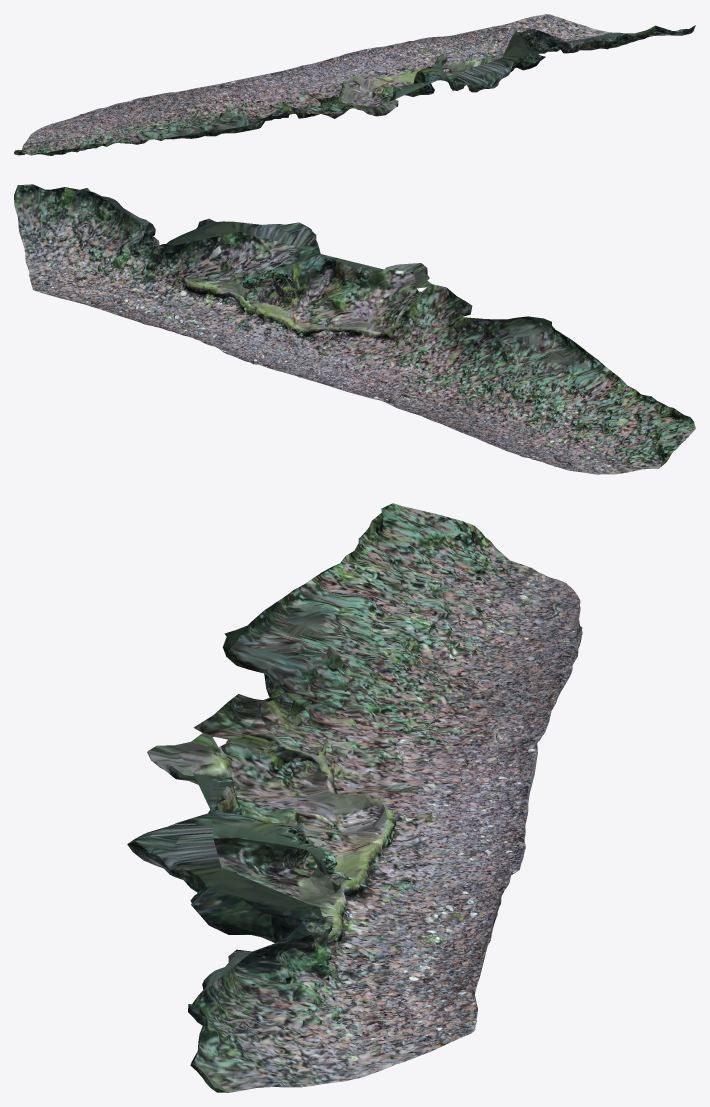
File: forest-floor-leaves-01.fbx
The picture shows the model from 3 angles, top to bottom: view 1: azimuth 30°, elevation 25°; view 2: azimuth 150°, elevation 25°; view 3: azimuth 270°, elevation 25°; orthographic projection. The views are drawn at different scales.
Parts seen in each view (by area): view 1: meshes[0]; view 2: meshes[0]; view 3: meshes[0].
Part boxes in pixels (<box>): meshes[0]: <box>14,14,695,155</box>; meshes[0]: <box>14,184,695,474</box>; meshes[0]: <box>127,503,582,1092</box>.
Size of the model in its own units: 7.95 by 0.5936 by 2.55.
Materials: 1 (1 with a texture image).
